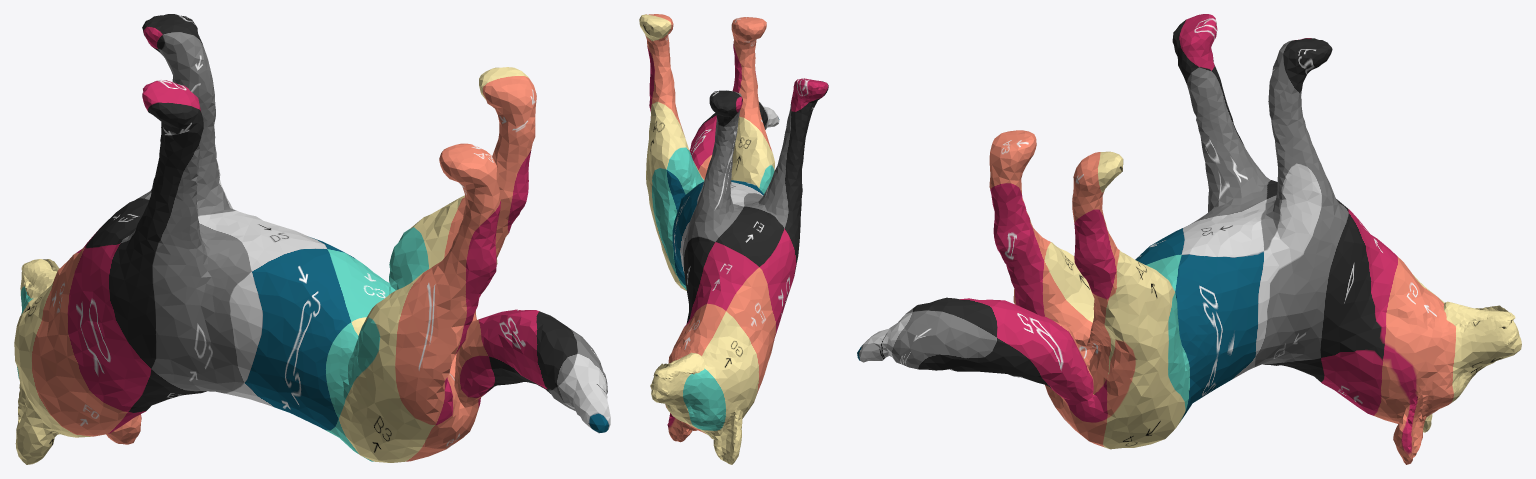
File: fox_02-dog_01.obj
The picture shows the model from 3 angles, left to right: view 1: azimuth 30°, elevation 25°; view 2: azimuth 150°, elevation 25°; view 3: azimuth 270°, elevation 25°; orthographic projection. The views are drawn at different scales.
Parts seen in each view (by area): view 1: fox_02-dog_01_export; view 2: fox_02-dog_01_export; view 3: fox_02-dog_01_export.
Part boxes in pixels (box(x1,y1,x2,y2)): fox_02-dog_01_export: box(14, 14, 610, 464); fox_02-dog_01_export: box(639, 14, 828, 464); fox_02-dog_01_export: box(857, 14, 1521, 464).
Size of the model in its own units: 0.5287 by 0.7141 by 1.03.
